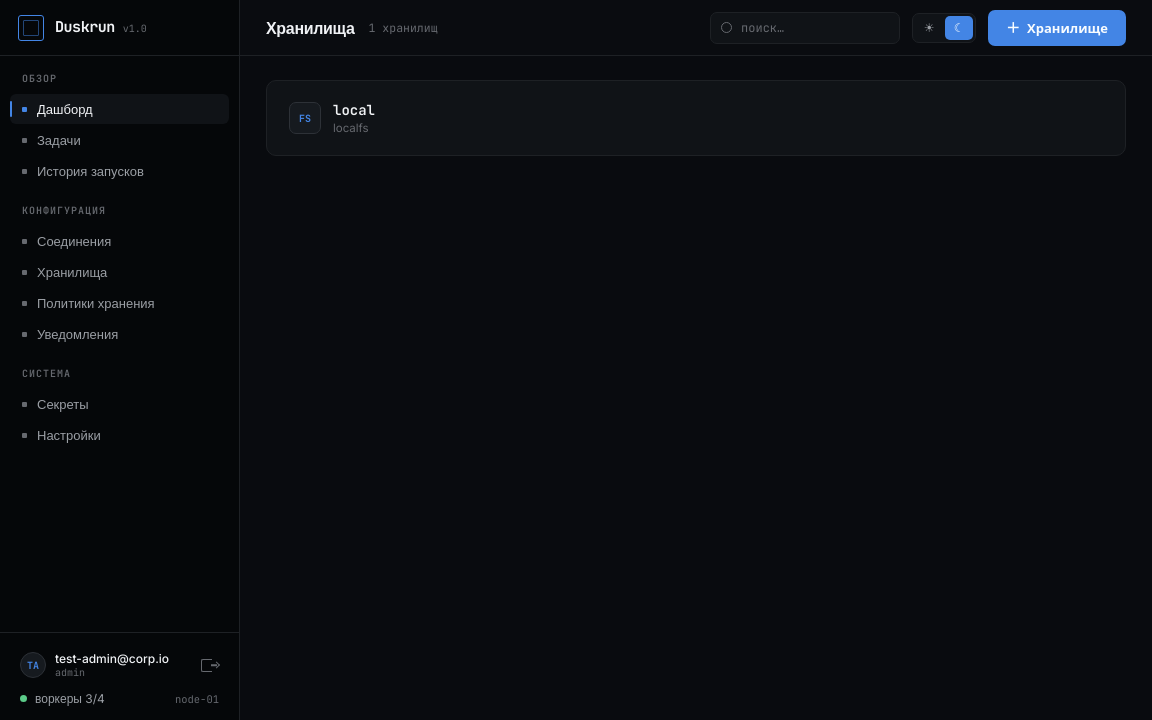
Test: TestStorageClickOpensEditor: clicking a storage opens edit modal
The width and height of the screenshot is (1152, 720).
Click the text "local" at point(354, 110), box [333,101,375,119]
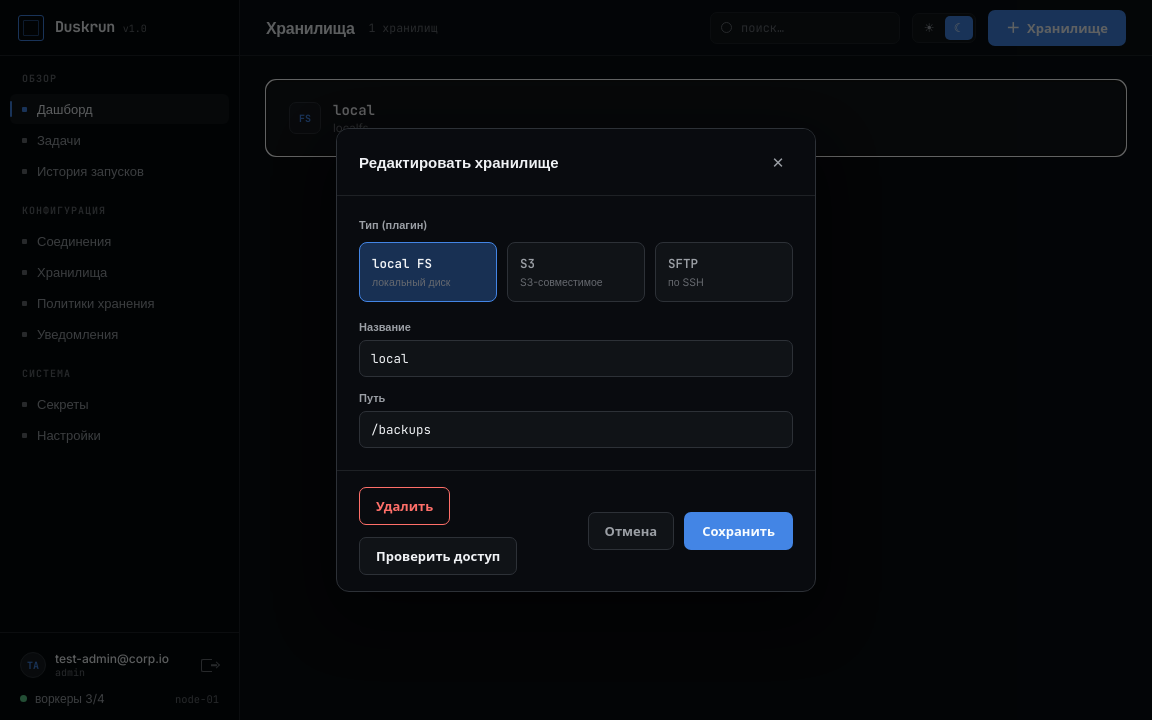
Expected: the text "Редактировать хранилище" is shown, [359,152,559,172]
Expected: the field showing "local" is shown, [359,340,793,377]
Expected: the field labelled "Путь" holds "/backups", [359,411,793,448]
